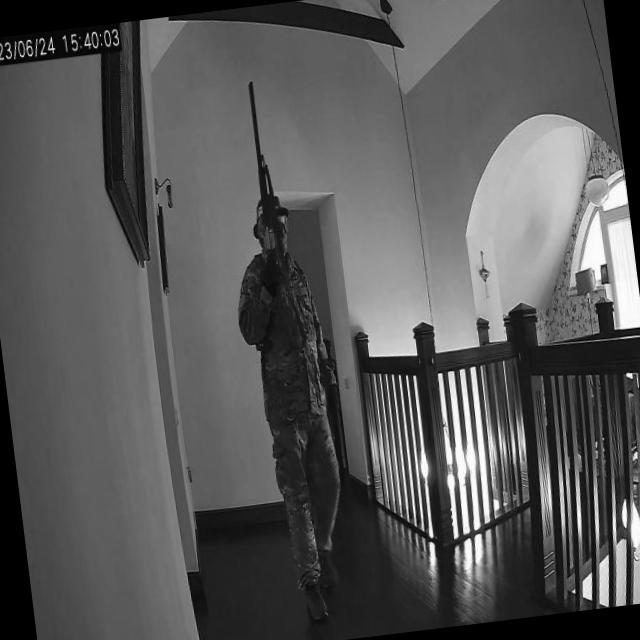gun: (240, 76, 296, 360)
person with a gun: (208, 71, 362, 624)
